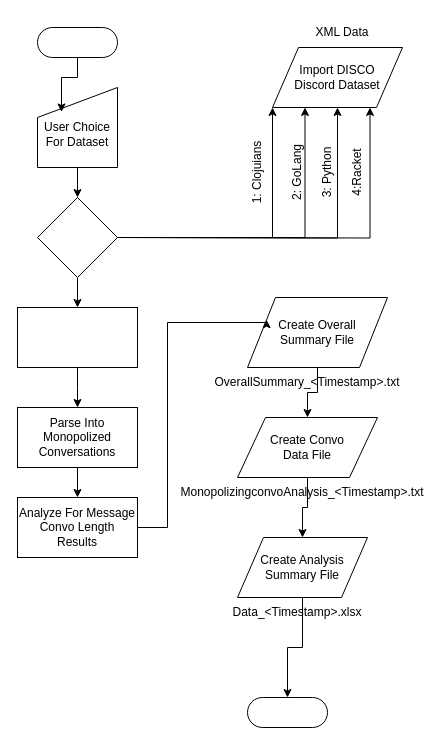
This 441x745 diagram has some shape labels left out. Here are the shapes that lost their labels. From the top down, the box of each, then its label:
(36, 26, 118, 58): App Start
(36, 196, 118, 278): User Choice
(16, 306, 138, 368): Transform to Standardized Input
(246, 696, 328, 728): App End
